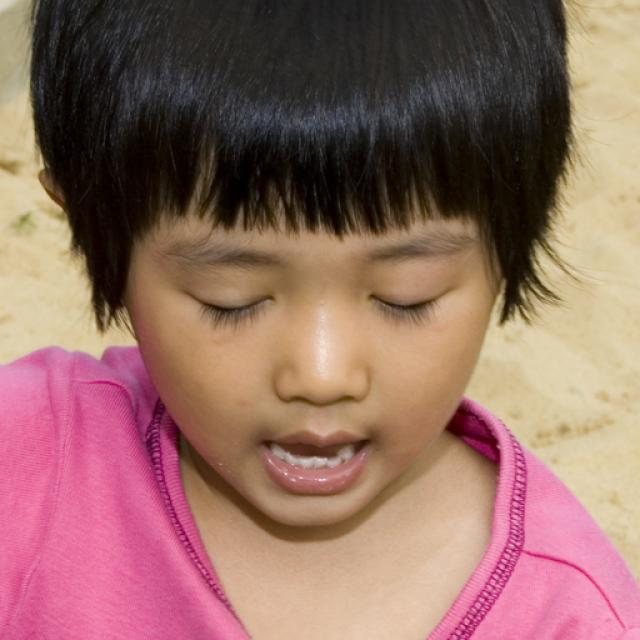sad: (127, 142, 495, 528)
